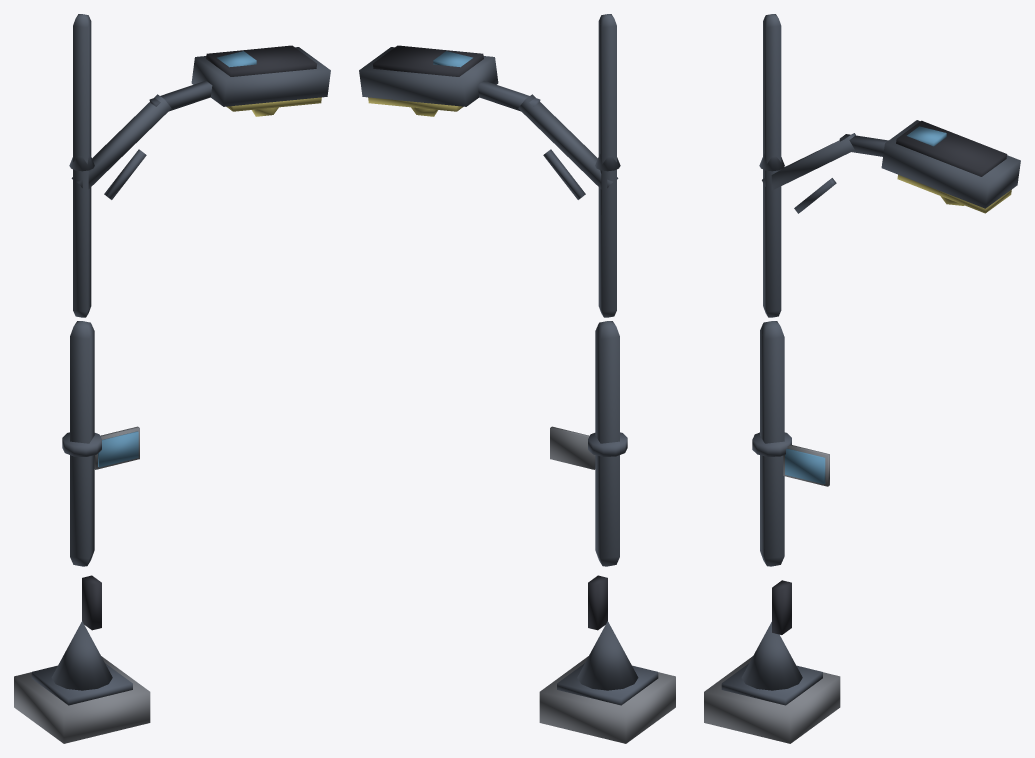
The model's file is street_lamp.glb.
The picture shows the model from 3 angles, left to right: view 1: azimuth 30°, elevation 25°; view 2: azimuth 150°, elevation 25°; view 3: azimuth 330°, elevation 25°; orthographic projection.
Visible parts, largest first — view 1: street_lamp; view 2: street_lamp; view 3: street_lamp.
Part boxes in pixels (box(x1,y1,x2,y2)): street_lamp: box(14, 14, 330, 743); street_lamp: box(359, 14, 675, 743); street_lamp: box(704, 14, 1020, 743).
Bounding box in the file's own units: 2.23 × 5.43 × 0.7.
